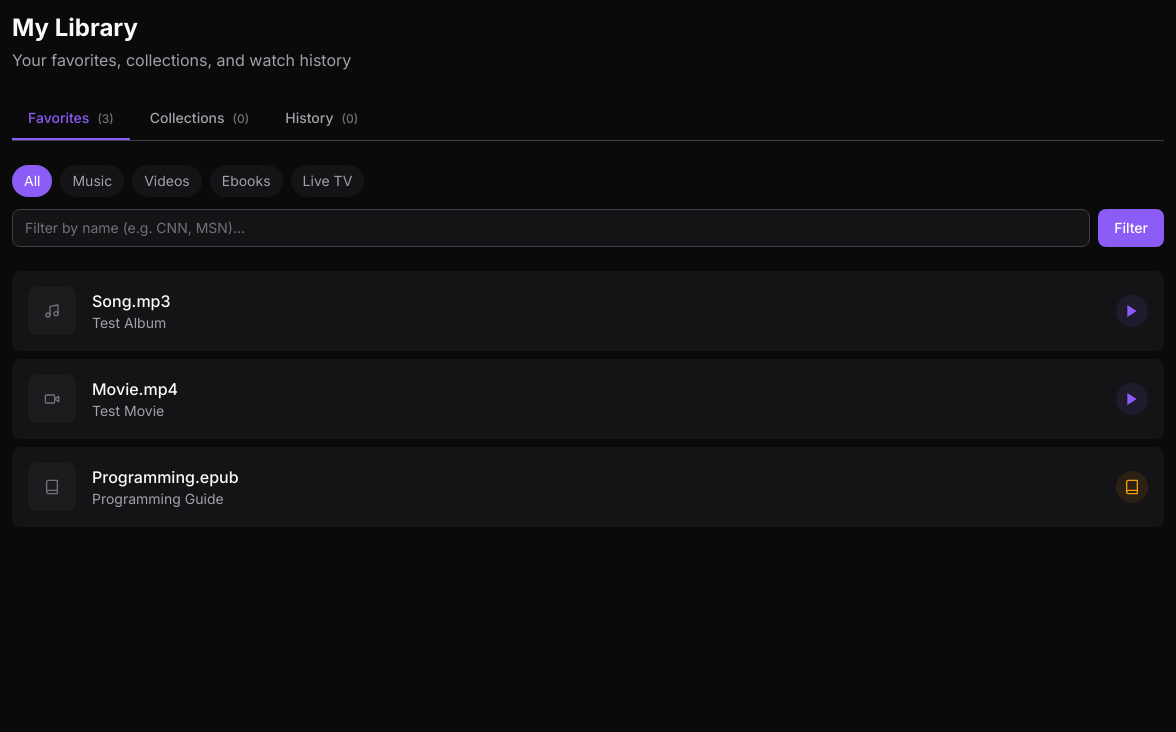
Test case: LibraryContent › Favorites Tab › filters favorites by media type
The image size is (1176, 732).
Click Music filter
What coordinates should you click on to do the following:
click the button "Music"
I would click on:
 (92, 181)
Its box is [60,165,124,197].
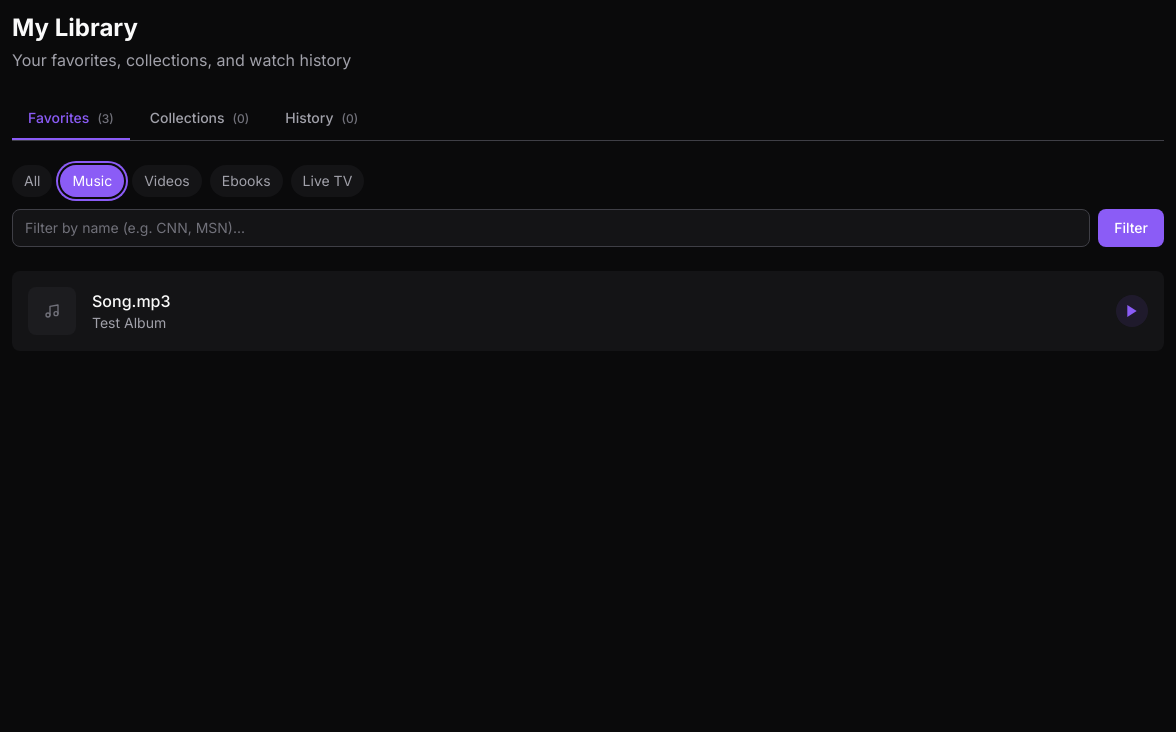
Expected: the heading "Song.mp3" is shown, [92,291,170,311]
Now the heading "Movie.mp4" is gone
Click Videos filter
What coordinates should you click on to do the following:
click the button "Videos"
I would click on:
 (167, 181)
Its box is [132,165,202,197].
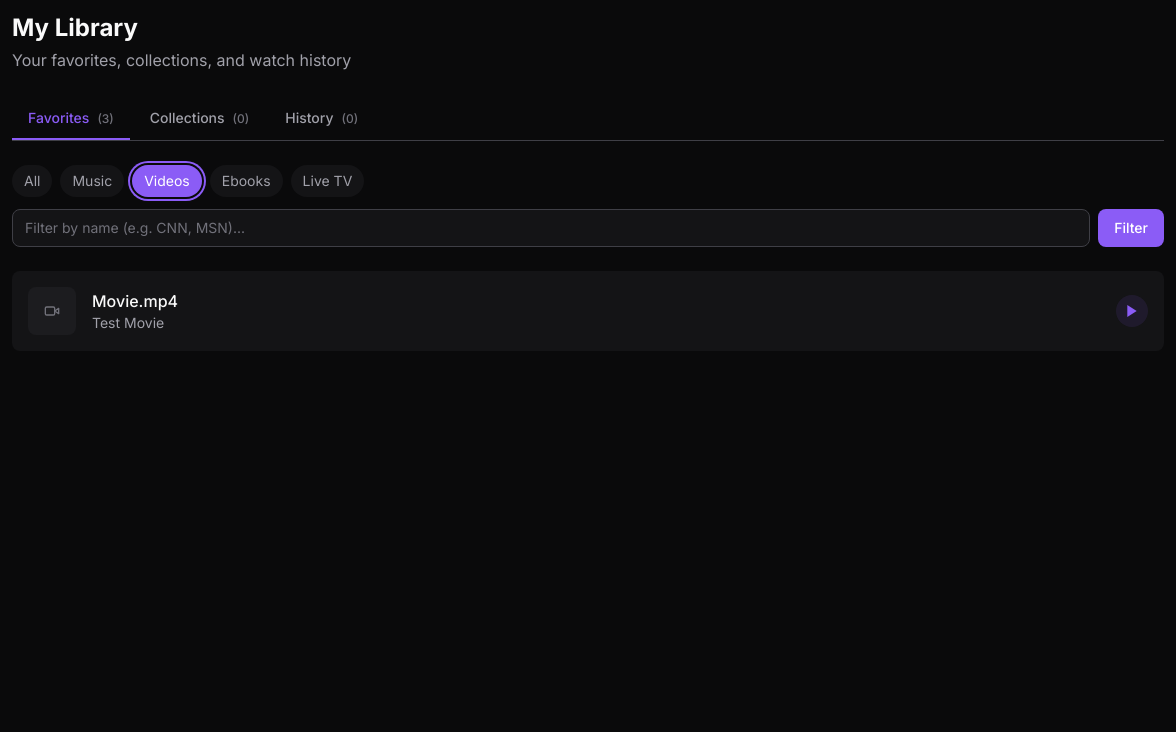
Now the heading "Song.mp3" is gone
Now the heading "Movie.mp4" is shown, box [92,291,178,311]
Click All filter
What coordinates should you click on to do the following:
click the button "All"
I would click on:
 (32, 181)
Its box is [12,165,52,197].
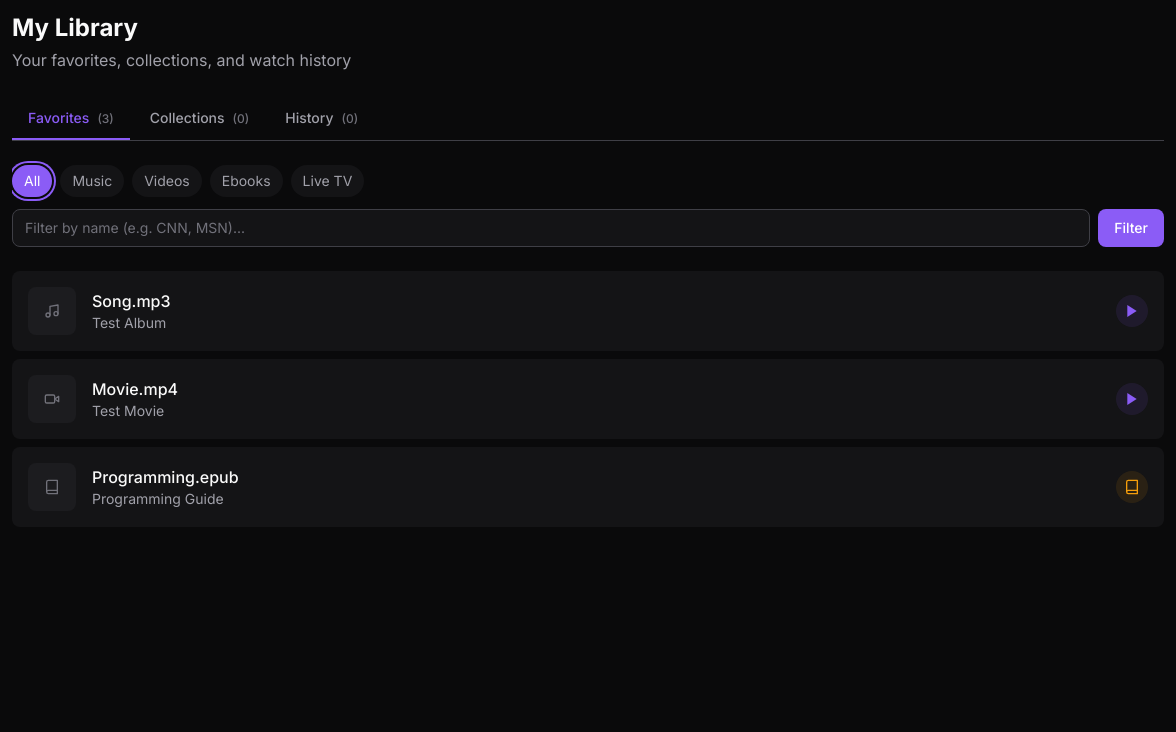
Now the heading "Movie.mp4" is shown, box [92,379,178,399]
Now the heading "Song.mp3" is shown, box [92,291,170,311]
